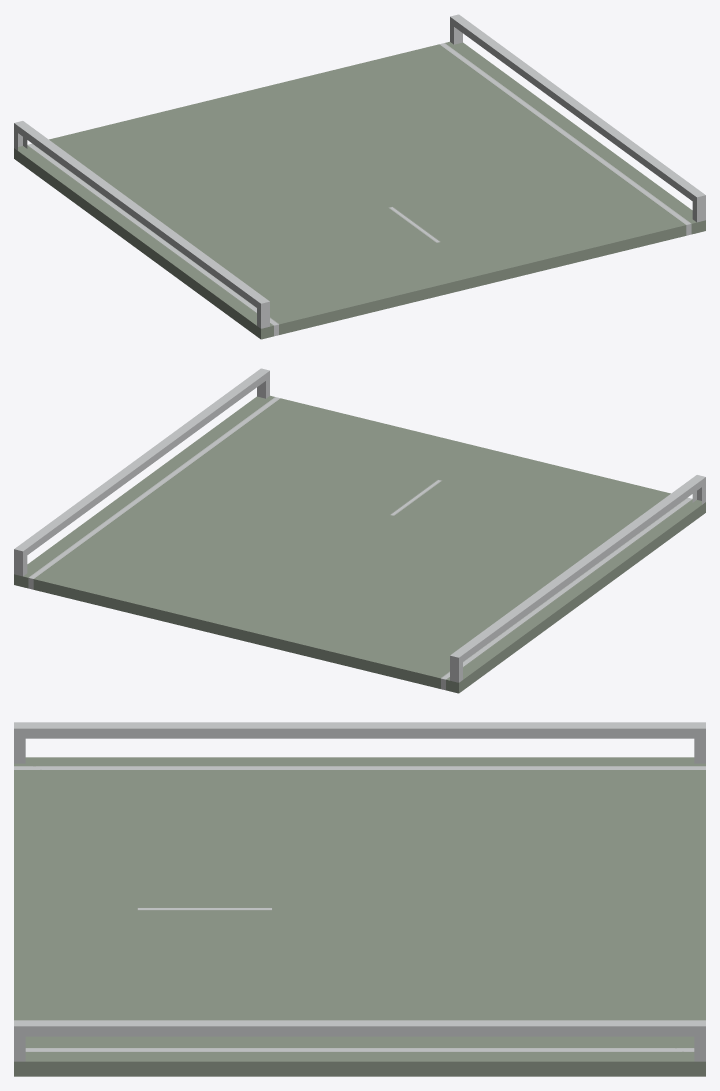
Rendered from Road_01.fbx.
The picture shows the model from 3 angles, top to bottom: view 1: azimuth 30°, elevation 25°; view 2: azimuth 150°, elevation 25°; view 3: azimuth 270°, elevation 25°; orthographic projection. The views are drawn at different scales.
Visible parts, largest first — view 1: Road_01; view 2: Road_01; view 3: Road_01.
Part boxes in pixels (left/top/right/bottom): Road_01: left=14, top=14, right=705, bottom=339; Road_01: left=14, top=368, right=705, bottom=693; Road_01: left=14, top=722, right=705, bottom=1076.
Bounding box in the file's own units: 2600 × 200 × 2500.
